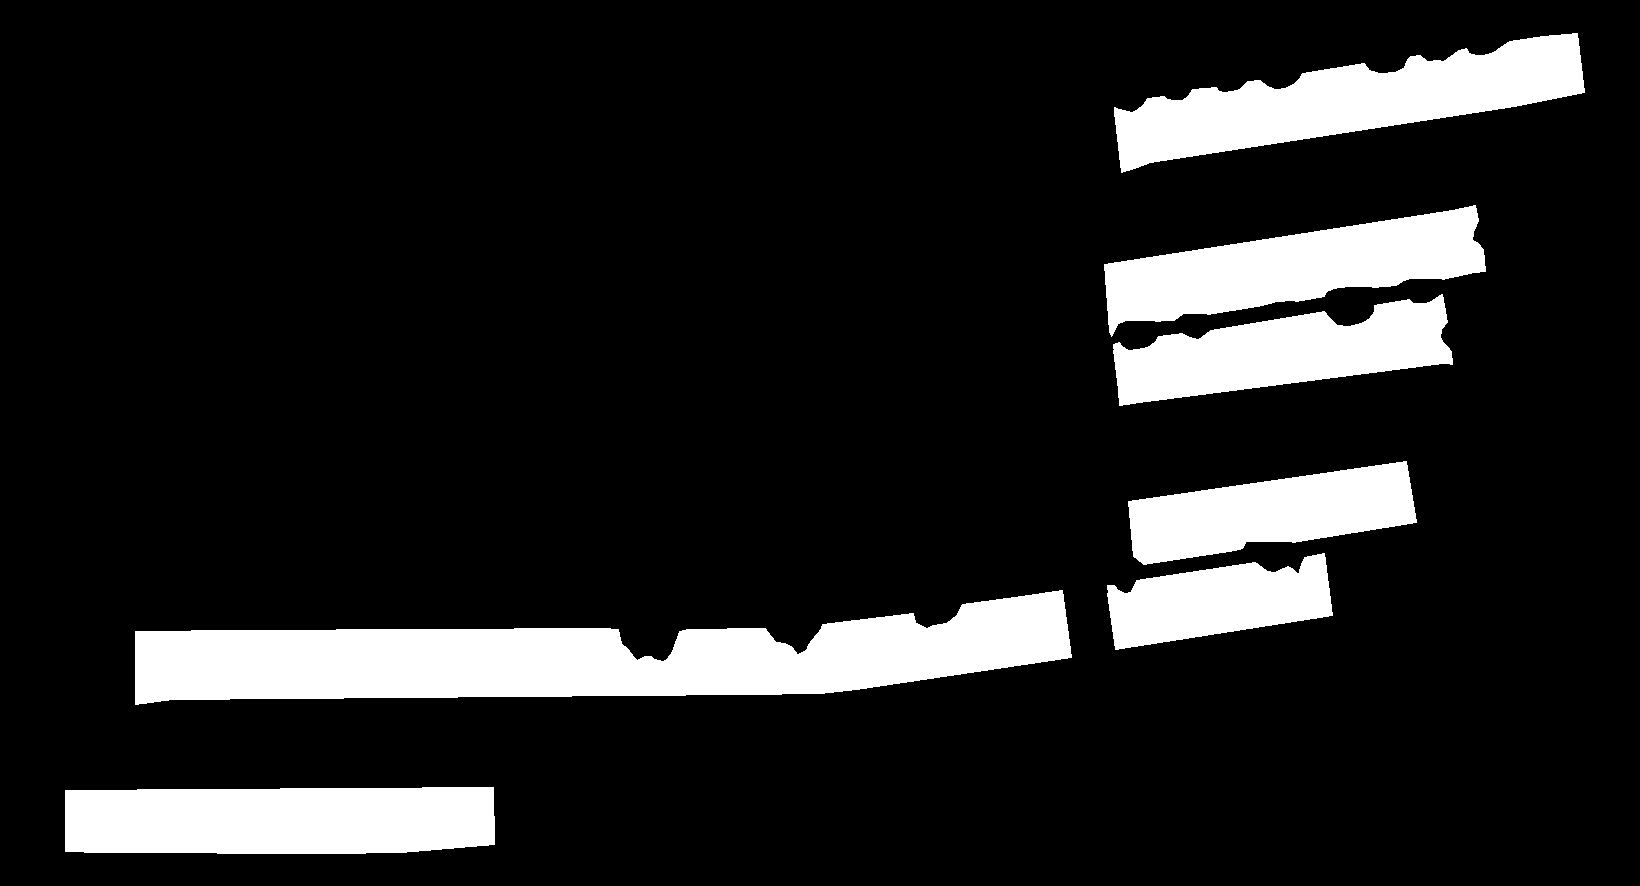parkingspot: (17, 0, 1639, 885), (883, 1, 1623, 500), (135, 590, 1072, 704), (1114, 33, 1584, 172), (1104, 205, 1485, 336), (1113, 294, 1452, 405), (1128, 460, 1416, 564), (65, 787, 494, 853), (1108, 553, 1332, 649)
